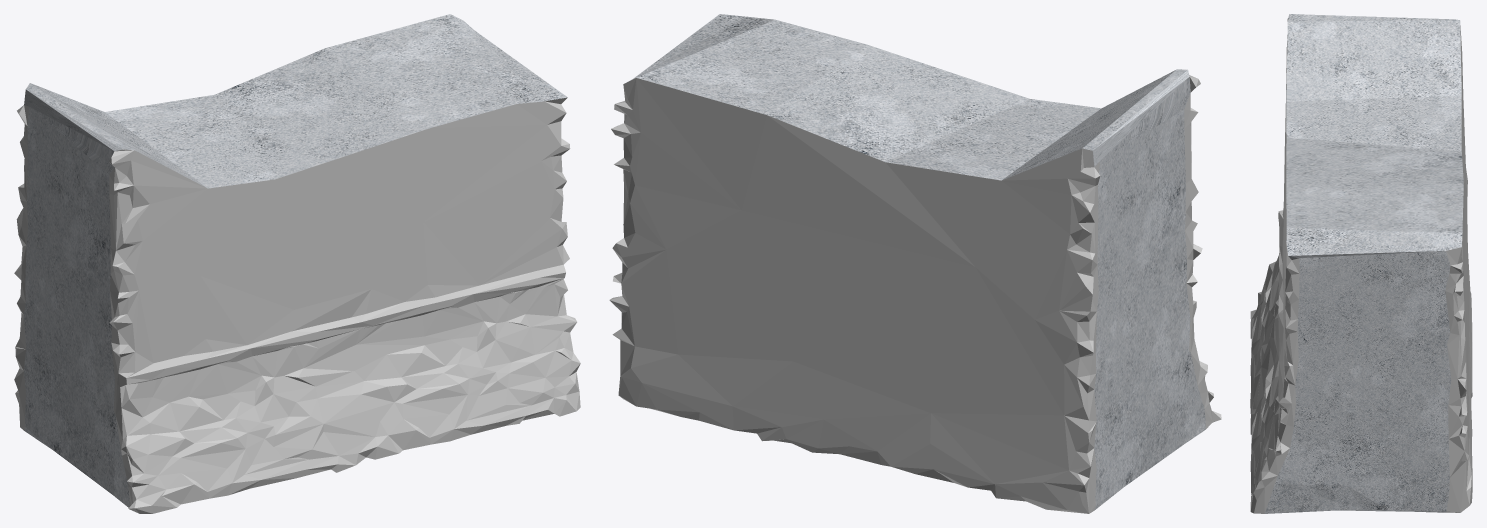
Rendered from wall_Broken.fbx.
3 renders of one model, left to right at view 1: azimuth 30°, elevation 25°; view 2: azimuth 150°, elevation 25°; view 3: azimuth 270°, elevation 25°, orthographic. The views are drawn at different scales.
Parts seen in each view (by area): view 1: wall_broken; view 2: wall_broken; view 3: wall_broken.
Boxes of the visible parts, x1,y1,x2,y2 form: wall_broken: (14,14,580,513); wall_broken: (609,14,1221,513); wall_broken: (1250,14,1472,513).
Bounding box in the file's own units: 977 × 717 × 460.
